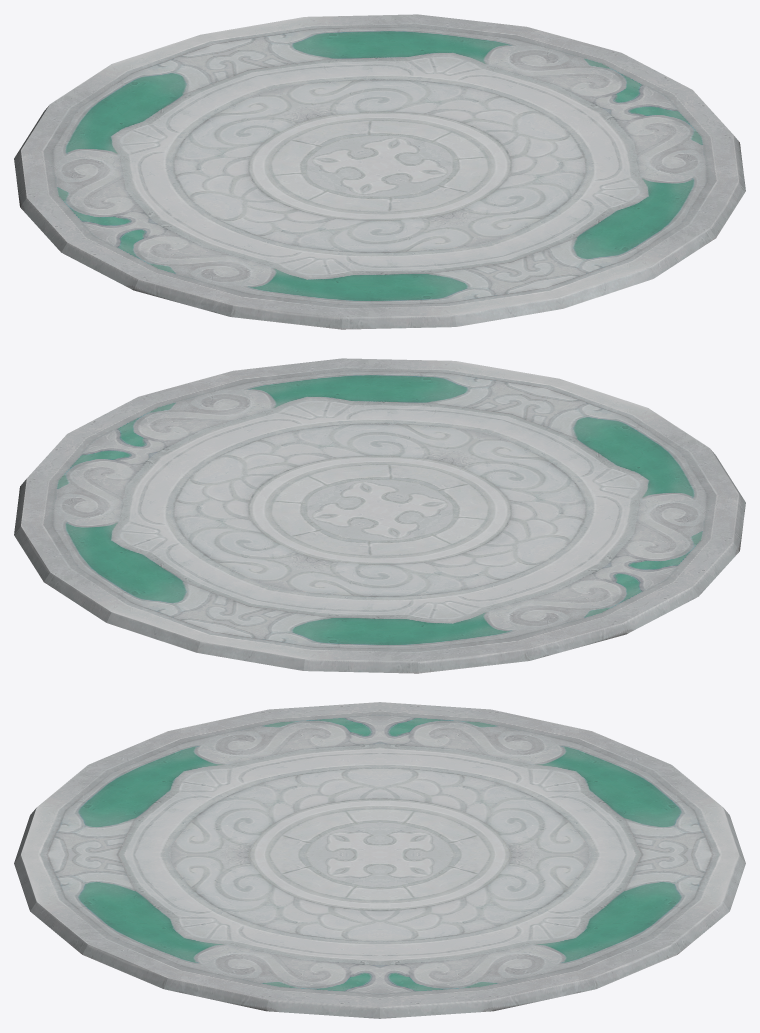
Rendered from W3_HD_GongHuiBoss_dimian_05_03_D.FBX.
The picture shows the model from 3 angles, top to bottom: view 1: azimuth 30°, elevation 25°; view 2: azimuth 150°, elevation 25°; view 3: azimuth 270°, elevation 25°; orthographic projection.
Parts seen in each view (by area): view 1: W3_HD_GongHuiBoss_dimian_05_03_D; view 2: W3_HD_GongHuiBoss_dimian_05_03_D; view 3: W3_HD_GongHuiBoss_dimian_05_03_D.
Boxes of the visible parts, box(x1,y1,x2,y2) form: W3_HD_GongHuiBoss_dimian_05_03_D: box(14, 14, 745, 329); W3_HD_GongHuiBoss_dimian_05_03_D: box(14, 358, 745, 673); W3_HD_GongHuiBoss_dimian_05_03_D: box(14, 702, 745, 1018).
Size of the model in its own units: 14.99 by 0.1968 by 14.91.
